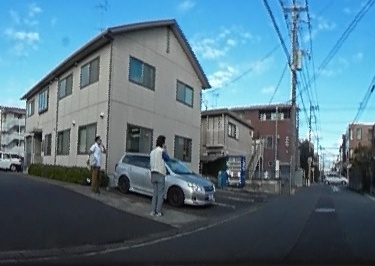person: (147, 131, 167, 217), (90, 134, 105, 194)
